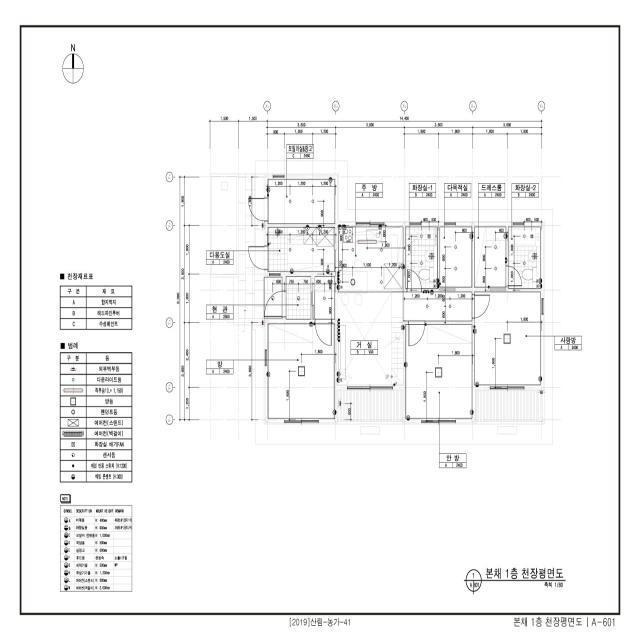background: (0, 0, 640, 640)
space_bedroom: (268, 324, 335, 419), (474, 292, 541, 385), (406, 324, 472, 418)
space_dressroom: (474, 227, 506, 287)
space_front: (286, 277, 311, 319)
space_kitchen: (337, 227, 403, 292)
space_living_room: (337, 292, 472, 385)
space_multipurpose_space: (268, 227, 335, 272), (440, 227, 472, 287)
space_other: (268, 180, 335, 224), (315, 276, 335, 319)
space_staircase: (391, 317, 403, 385)
space_toilet: (405, 227, 438, 289), (508, 227, 541, 289)
